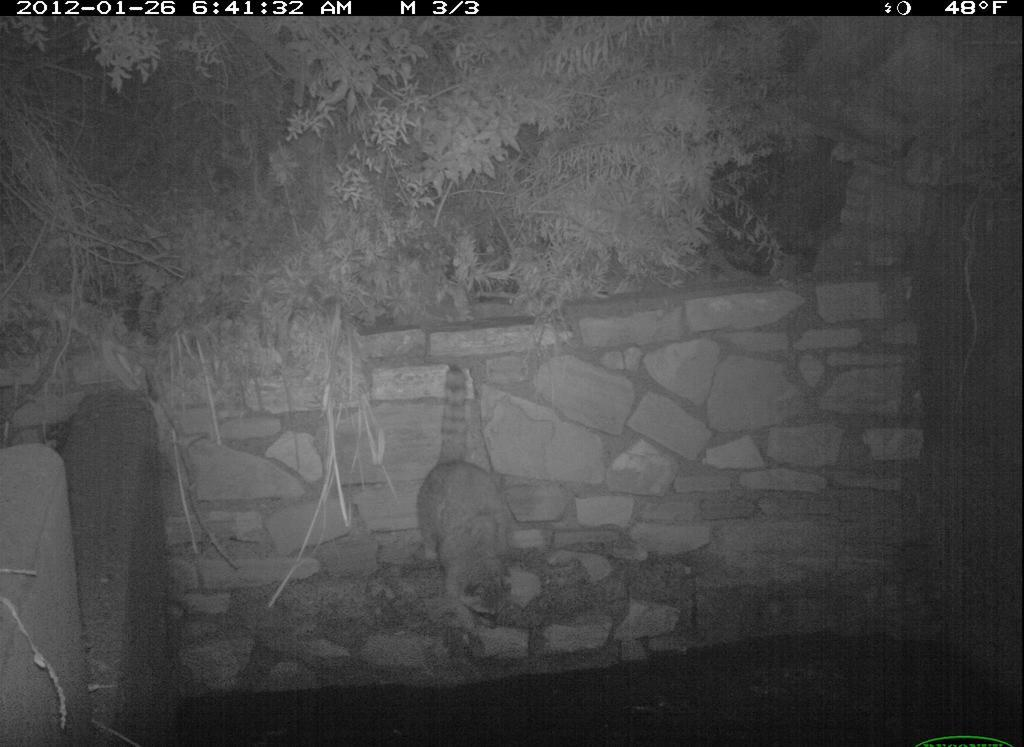raccoon: (413, 358, 528, 641)
